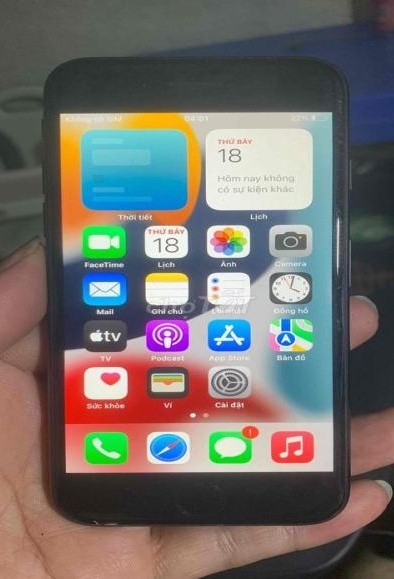scratch: (319, 80, 349, 165), (83, 510, 122, 527)
